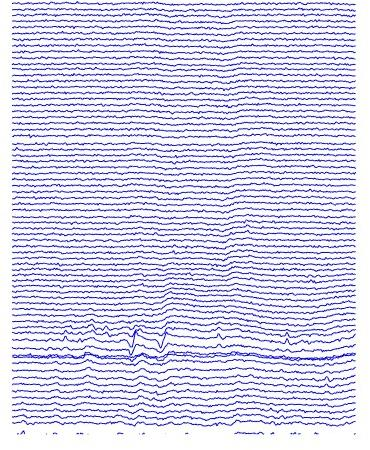defect: (122, 324, 176, 371), (281, 326, 295, 357)
